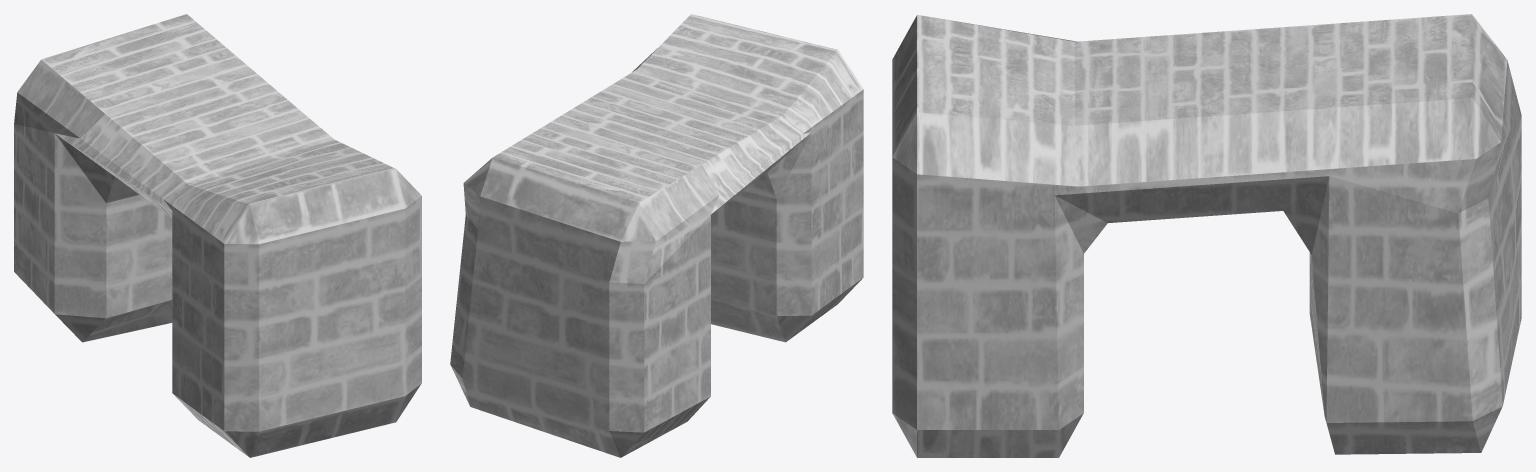
The model's file is Stone1.fbx.
The picture shows the model from 3 angles, left to right: view 1: azimuth 30°, elevation 25°; view 2: azimuth 150°, elevation 25°; view 3: azimuth 270°, elevation 25°; orthographic projection. The views are drawn at different scales.
Visible parts, largest first — view 1: Cube; view 2: Cube; view 3: Cube.
Boxes of the visible parts, x1,y1,x2,y2 form: Cube: (14, 14, 421, 457); Cube: (450, 14, 863, 457); Cube: (892, 14, 1521, 457).
Size of the model in its own units: 199 by 228 by 366.
